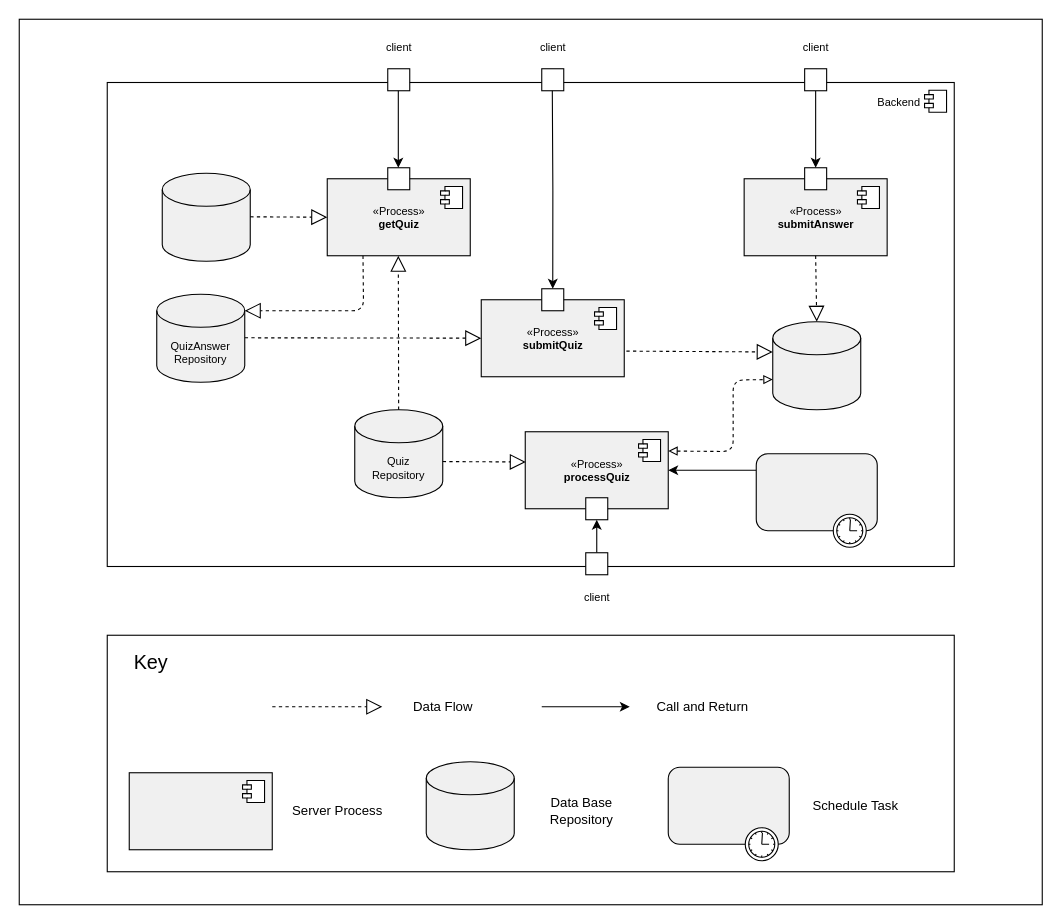
The diagram is 1062 pixels wide and 924 high, and some of its shapes have lost their labels. The centre of each missing label's shape, as x and y in pixels:
QuizAnswerItem Repository: the point at 816,365
SheduledTasks: the point at 816,492
User Repository: the point at 205,216
